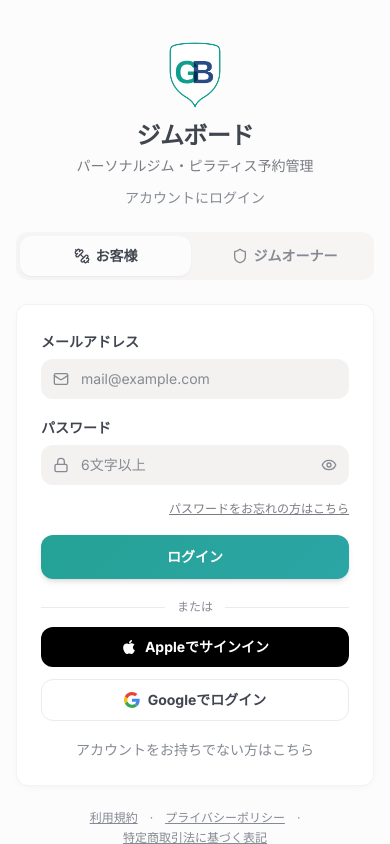
Scenario: 確認メール送信後の画面 › 「ログインへ戻る」でログインフォームに戻り、パネルが残らない
Click the button "アカウントをお持ちでない方はこちら".
click(195, 750)  # box [76,740,314,760]
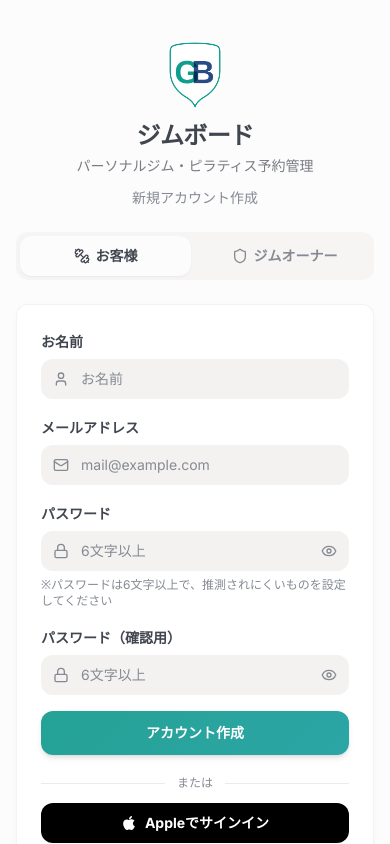
Type "tester@example.com" into the field labelled "メールアドレス".
click(195, 465); type("tester@example.com")  # box [41,445,349,485]
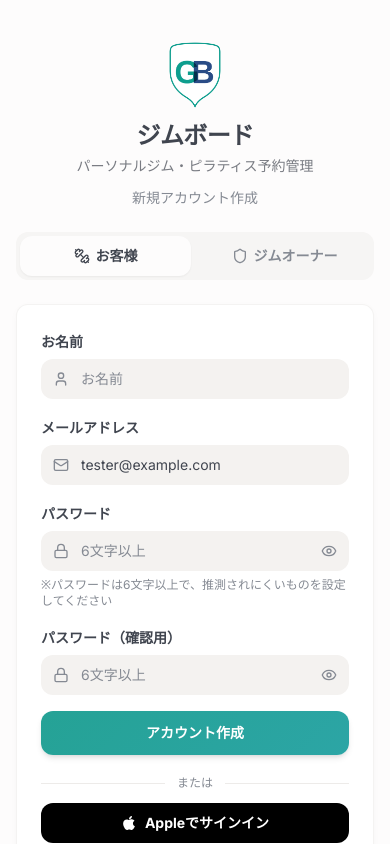
Type "abcdef12" into the password field labelled "パスワード".
click(195, 551); type("abcdef12")  # box [41,531,349,571]
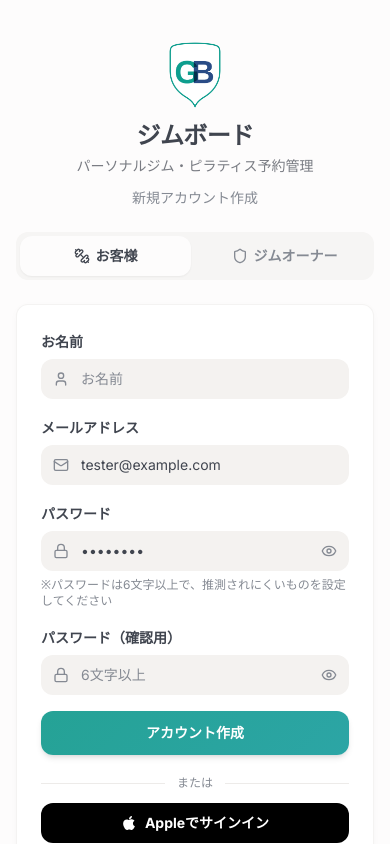
Type "abcdef12" into the password field labelled "パスワード（確認用）".
click(195, 675); type("abcdef12")  # box [41,655,349,695]
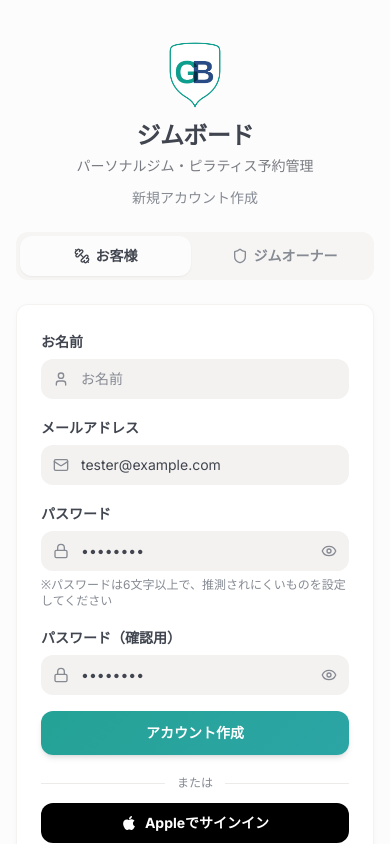
Click the button "アカウント作成".
click(195, 733)  # box [41,711,349,755]
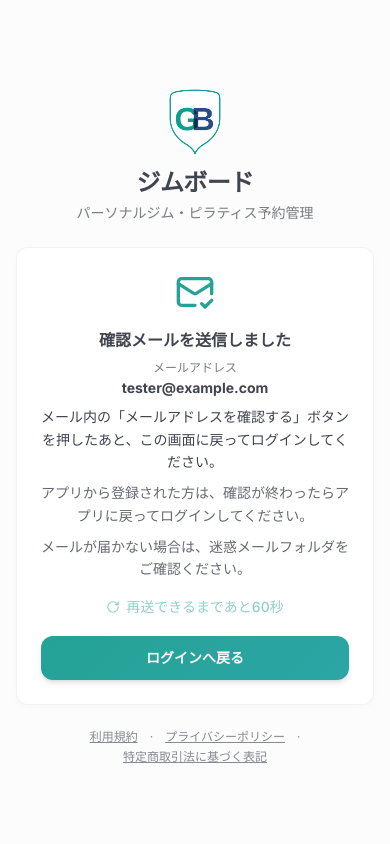
Result: the heading "確認メールを送信しました" is shown at [99,330,291,350]
Click the button "ログインへ戻る".
click(195, 658)  # box [41,636,349,680]
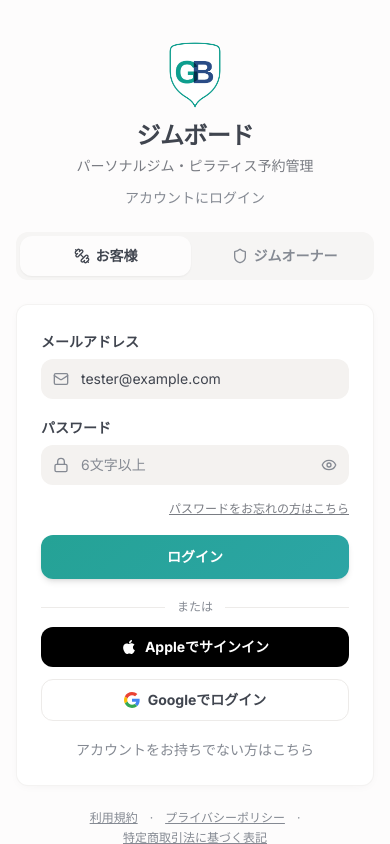
Result: the button "ログイン" is shown at [41,535,349,579]
Result: the heading "確認メールを送信しました" is gone
